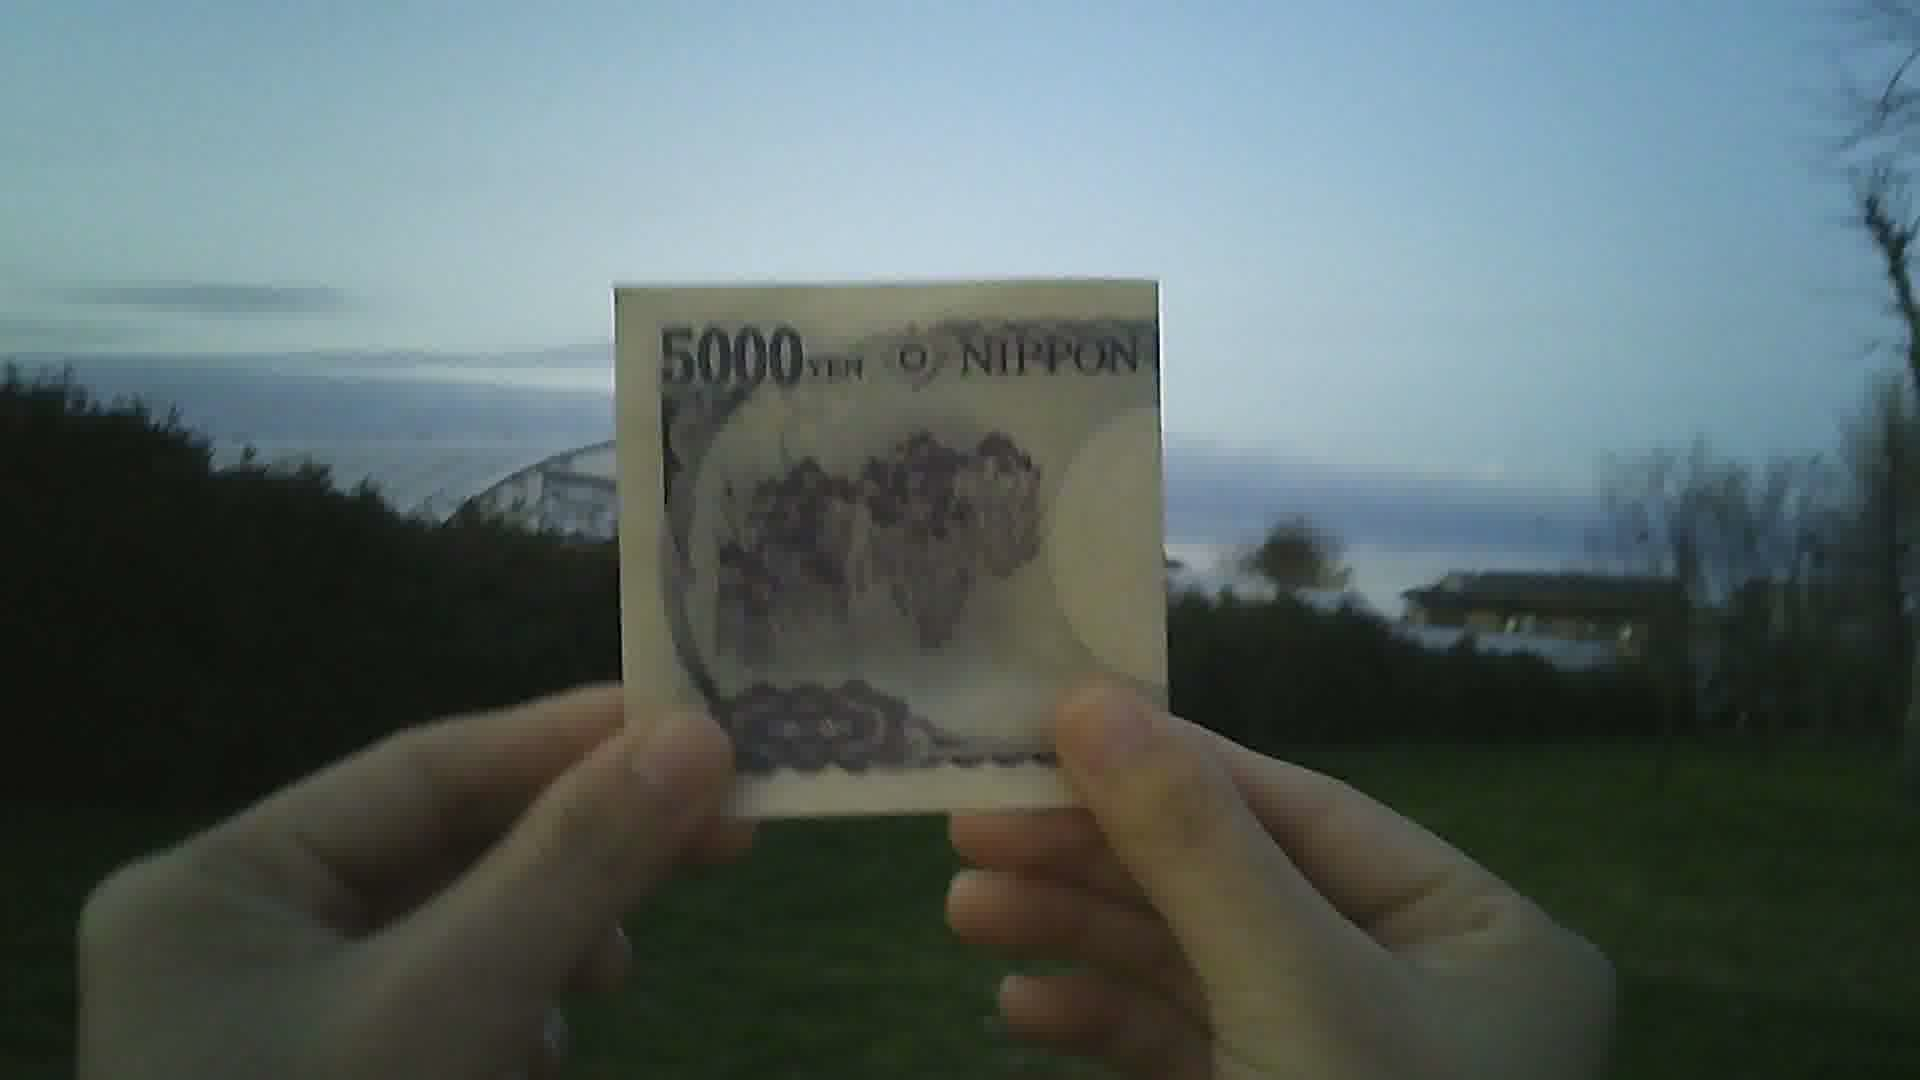5,000 Yen: (593, 262, 1213, 832)
